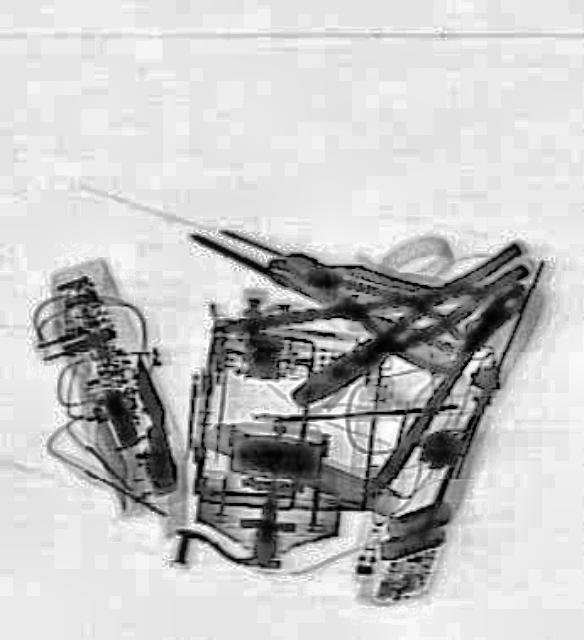Pliers: (282, 235, 534, 418), (256, 232, 469, 354)
